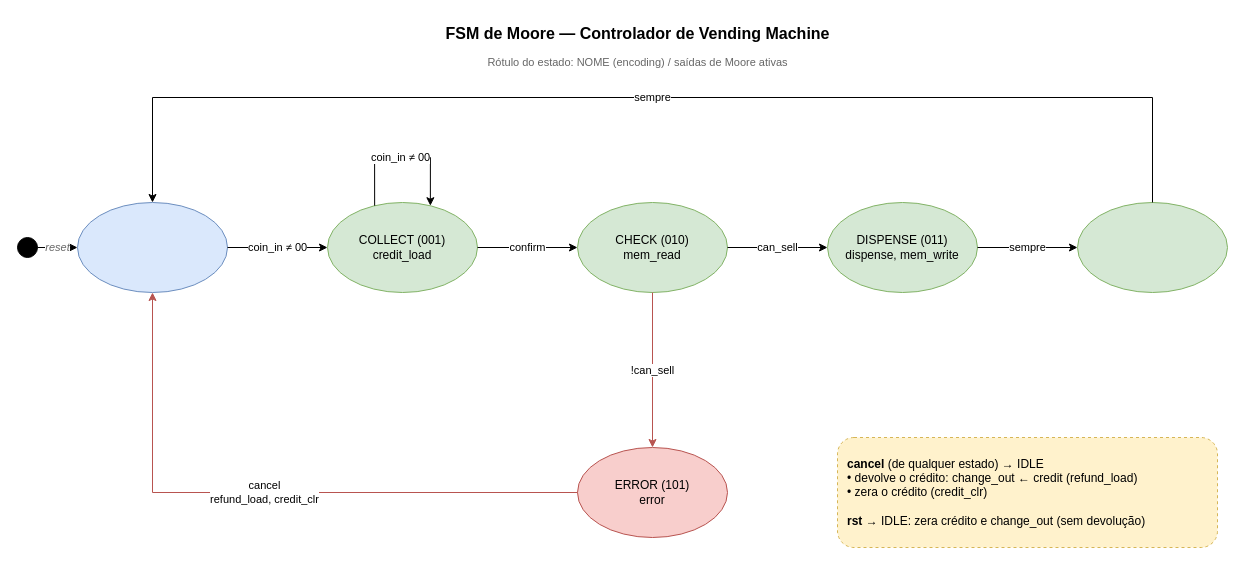
This 1245x565 diagram has some shape labels left out. Here are the shapes that lost their labels. From the top down, the centre of each, then its label:
At (x=152, y=247): "IDLE (000) —".
At (x=1152, y=247): "CHANGE (100) change_load, credit_clr".
